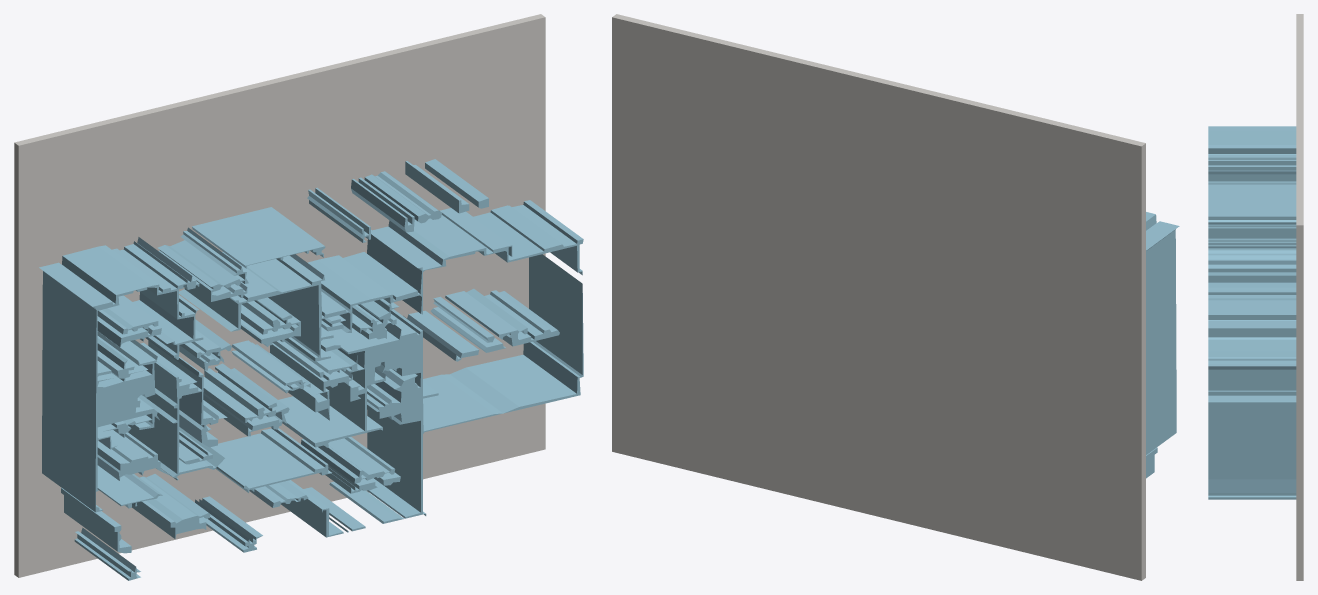
3 renders of one model, left to right at view 1: azimuth 30°, elevation 25°; view 2: azimuth 150°, elevation 25°; view 3: azimuth 270°, elevation 25°, orthographic. The views are drawn at different scales.
Parts seen in each view (by area): view 1: world; view 2: world; view 3: world.
Part boxes in pixels (x1,y1,x2,y2): world: (14, 14, 583, 580); world: (612, 14, 1179, 580); world: (1208, 14, 1303, 580).
Size of the model in its own units: 10.23 by 8.02 by 1.96.
